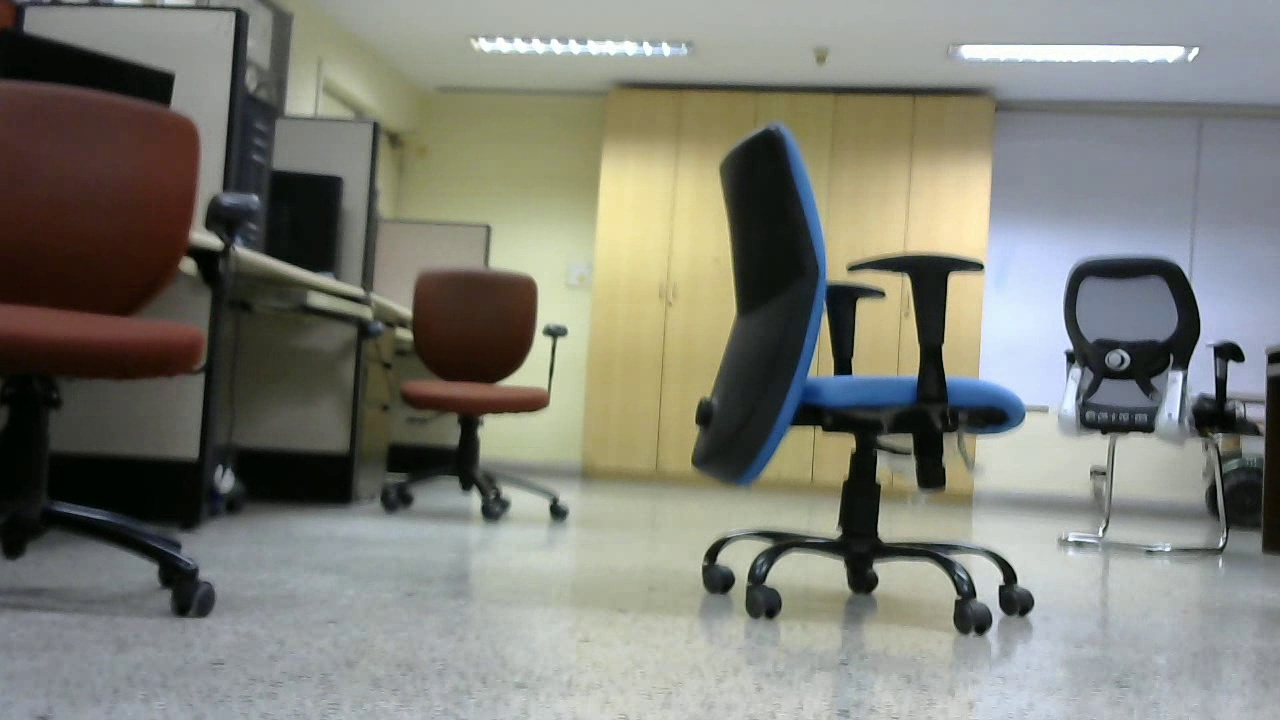chair: (698, 126, 1051, 627), (1, 76, 239, 630), (387, 264, 576, 534), (1065, 248, 1223, 558)
